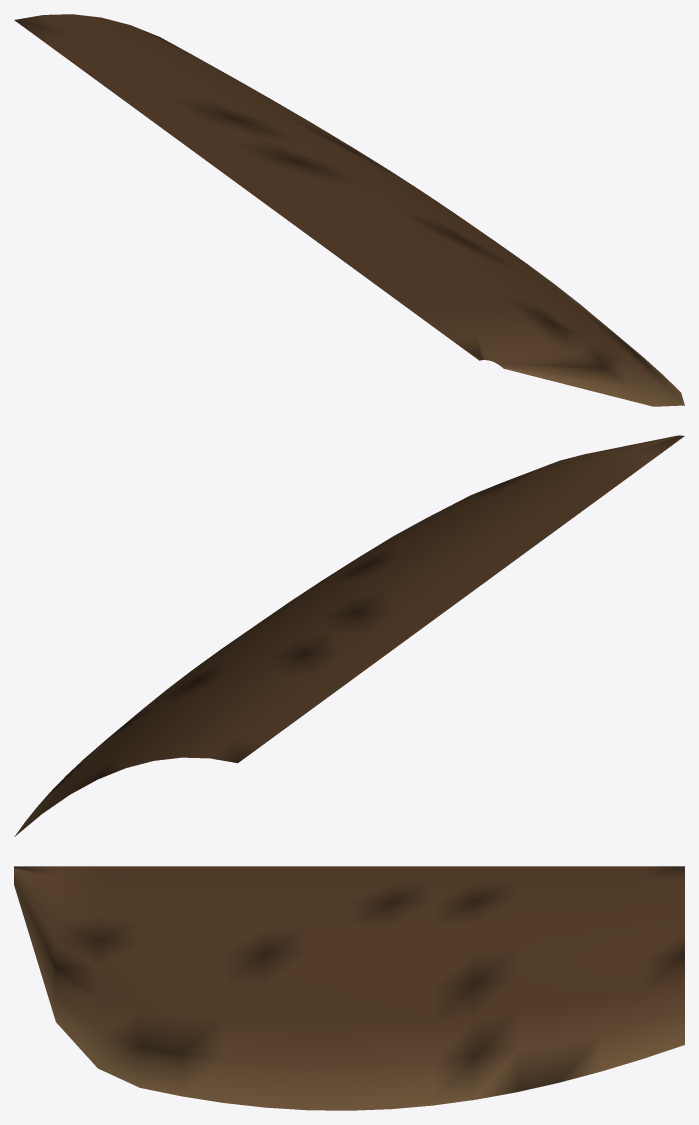
The model's file is Korogi_Wing.fbx.
The picture shows the model from 3 angles, top to bottom: view 1: azimuth 30°, elevation 25°; view 2: azimuth 150°, elevation 25°; view 3: azimuth 270°, elevation 25°; orthographic projection. The views are drawn at different scales.
Visible parts, largest first — view 1: Korogi_Wing; view 2: Korogi_Wing; view 3: Korogi_Wing.
Boxes of the visible parts, <box> form: Korogi_Wing: <box>14,14,684,406</box>; Korogi_Wing: <box>14,435,684,836</box>; Korogi_Wing: <box>14,866,684,1110</box>.
Size of the model in its own units: 0.1899 by 0.1045 by 0.48.
